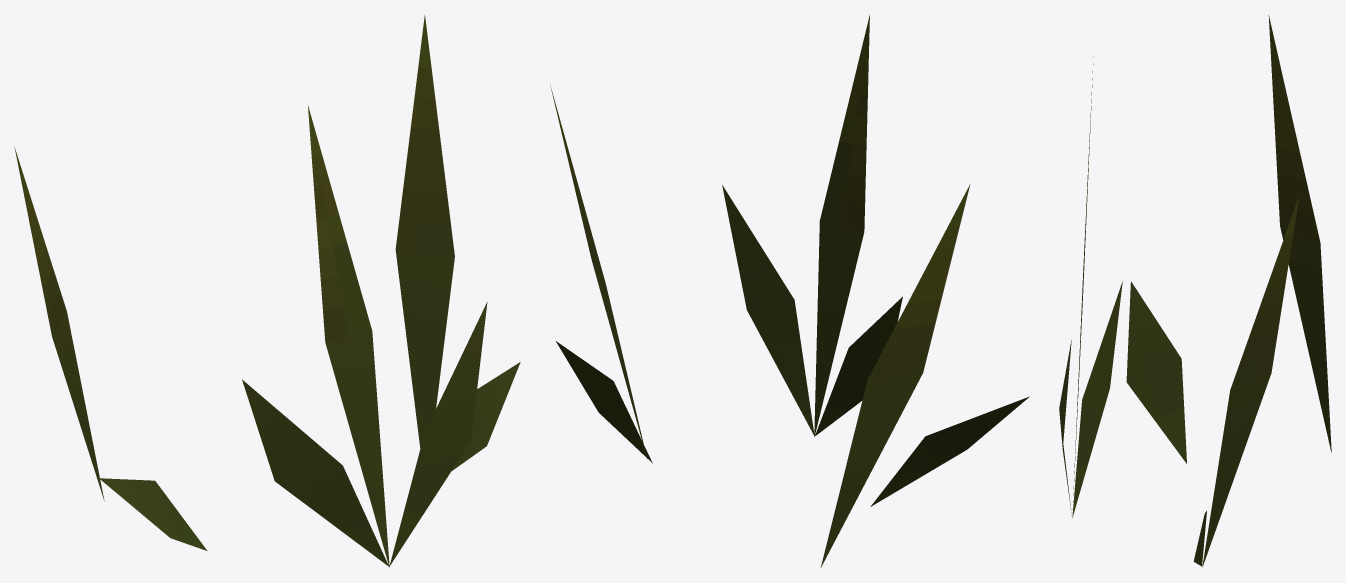
File: plants_me_level_grass11.gltf
3 renders of one model, left to right at view 1: azimuth 30°, elevation 25°; view 2: azimuth 150°, elevation 25°; view 3: azimuth 270°, elevation 25°, orthographic. The views are drawn at different scales.
Visible parts, largest first — view 1: um_plants_me_level_grass11_model_plants_me_level_grass11_mod; view 2: um_plants_me_level_grass11_model_plants_me_level_grass11_mod; view 3: um_plants_me_level_grass11_model_plants_me_level_grass11_mod.
Boxes of the visible parts, x1,y1,x2,y2 form: um_plants_me_level_grass11_model_plants_me_level_grass11_mod: (14,15,520,567); um_plants_me_level_grass11_model_plants_me_level_grass11_mod: (550,15,1029,567); um_plants_me_level_grass11_model_plants_me_level_grass11_mod: (1059,15,1331,567).
Bounding box in the file's own units: 0.4698 × 0.45 × 0.2521.
Materials: 1 (1 with a texture image).
